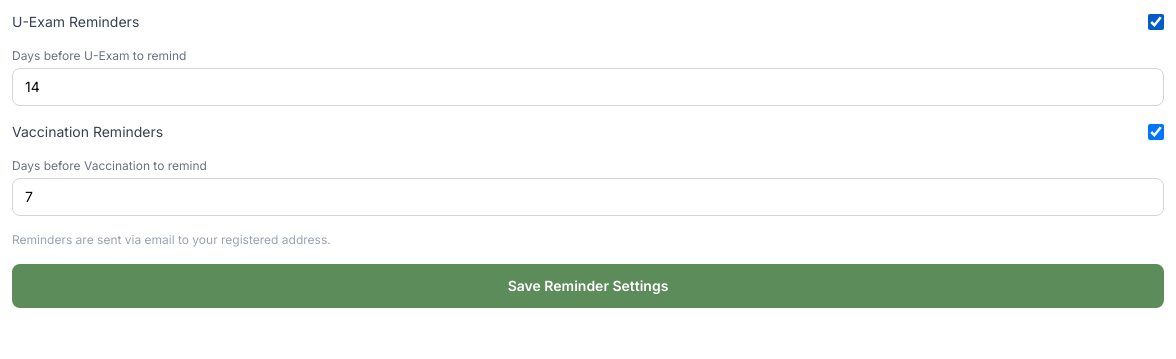
Scenario: ReminderSettings › should show success message after save
Check: the checkbox labelled "U-Exam Reminders" is shown, box [1148,14,1164,30]
Click the button "Save Reminder Settings" at [588, 286], box [12,264,1164,308]
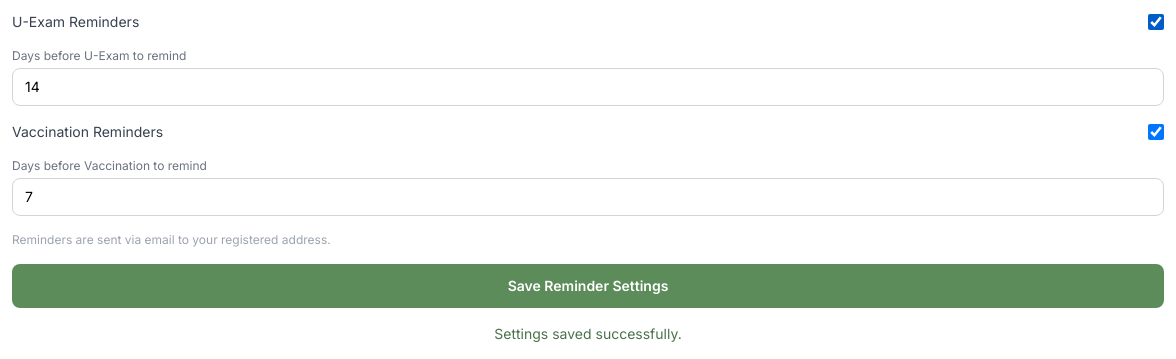
Check: the text "Settings saved successfully." is shown, box [494,325,682,342]
